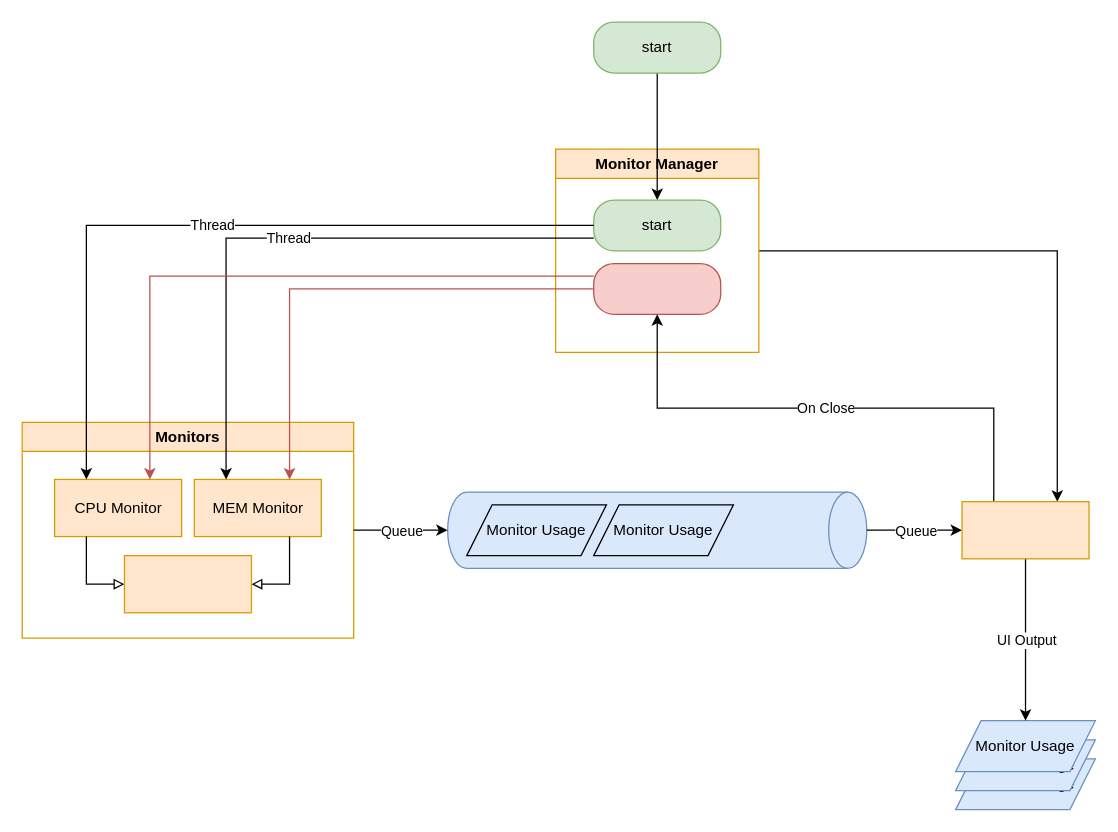
The diagram is 1118 pixels wide and 832 high, and some of its shapes have lost their labels. Each missing label, with the centre of its shape:
Base Monitor: the point at 187,583
stop: the point at 656,288
UI Receiver: the point at 1025,529
